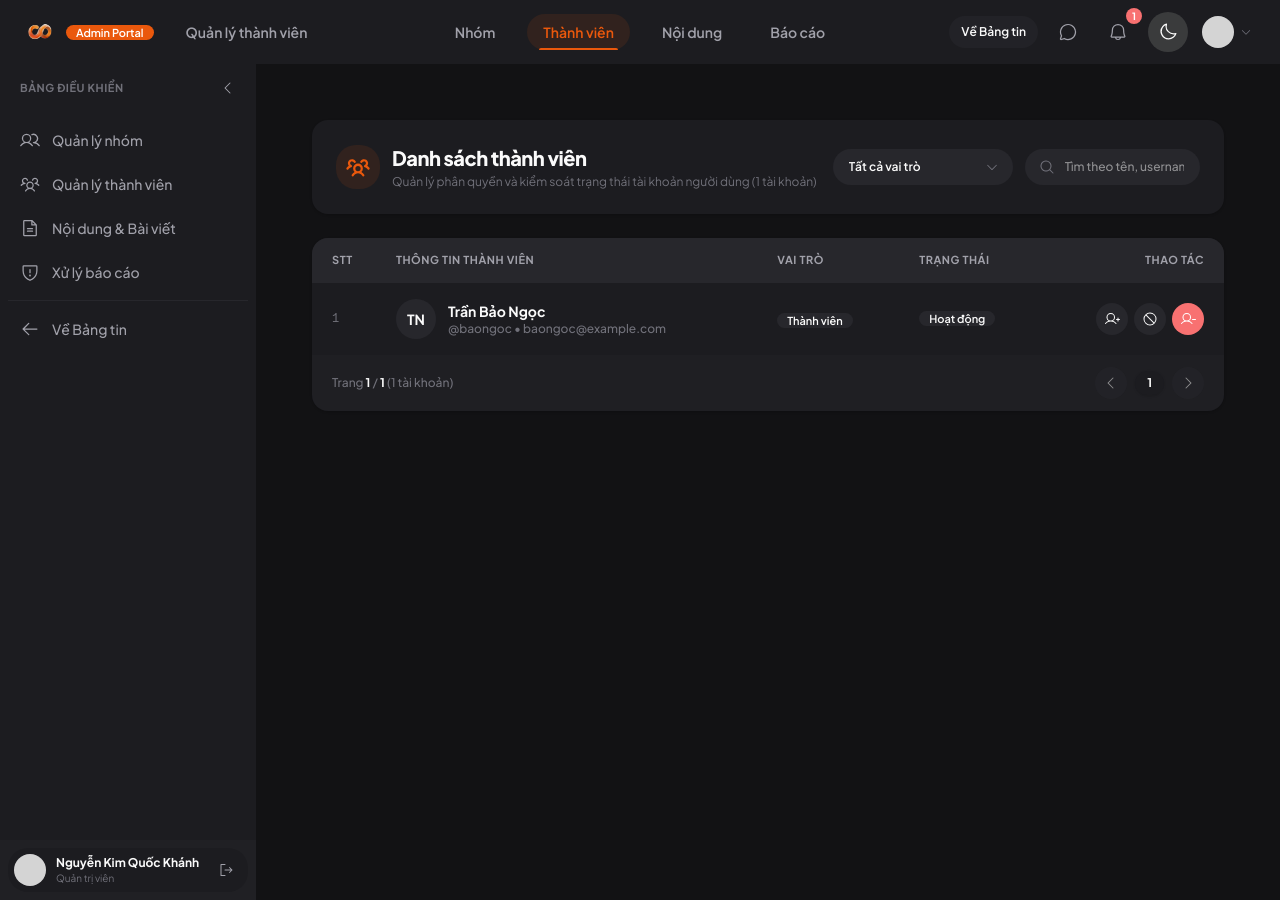
PR #24: Admin Portal Suite › <AdminMembersManager /> › opens ConfirmDialog when clicking lock/unlock user button
Expected: the text "Trần Bảo Ngọc" is shown, top-left (448, 302), bottom-right (546, 320)
Click the button named "Khóa hoặc mở khóa tài khoản".
click(1150, 318)  # box top-left (1134, 302), bottom-right (1166, 334)
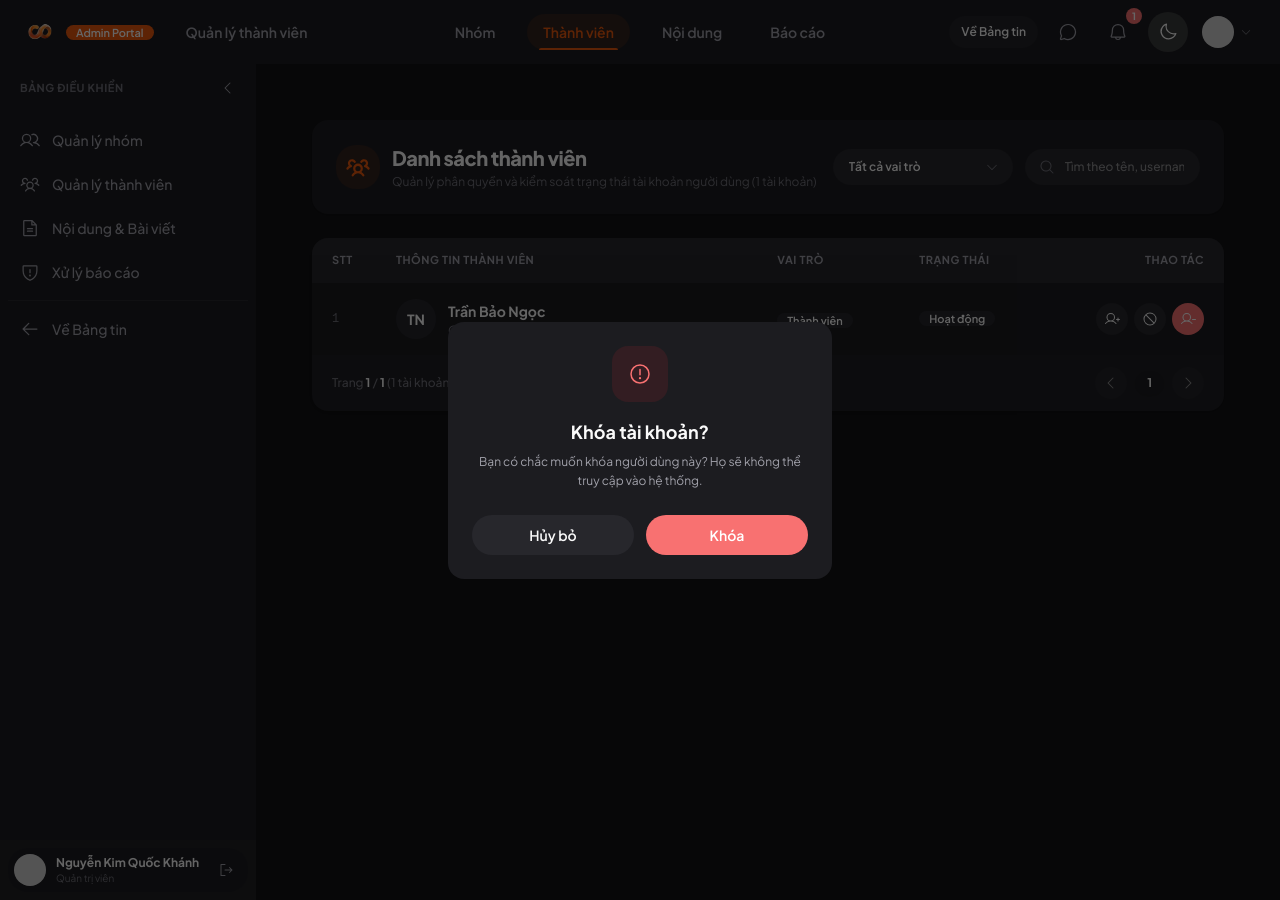
Expected: the heading "Khóa tài khoản?" is shown, top-left (571, 420), bottom-right (709, 442)
Expected: the text "Bạn có chắc muốn khóa người dùng này" is shown, top-left (479, 454), bottom-right (801, 488)
